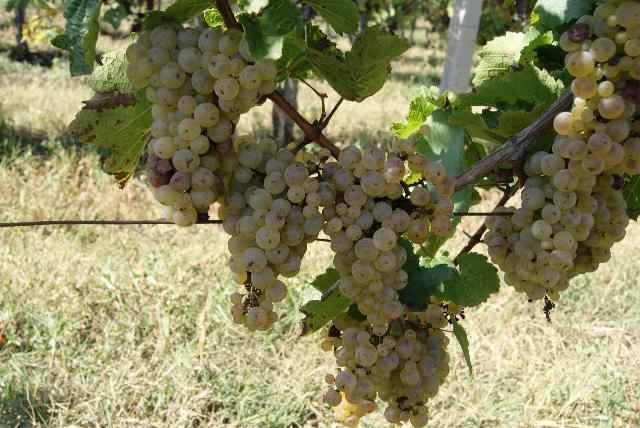grapes: (126, 21, 278, 226), (484, 151, 629, 301), (325, 141, 454, 304), (219, 138, 320, 330), (552, 0, 640, 179), (326, 324, 449, 425)
